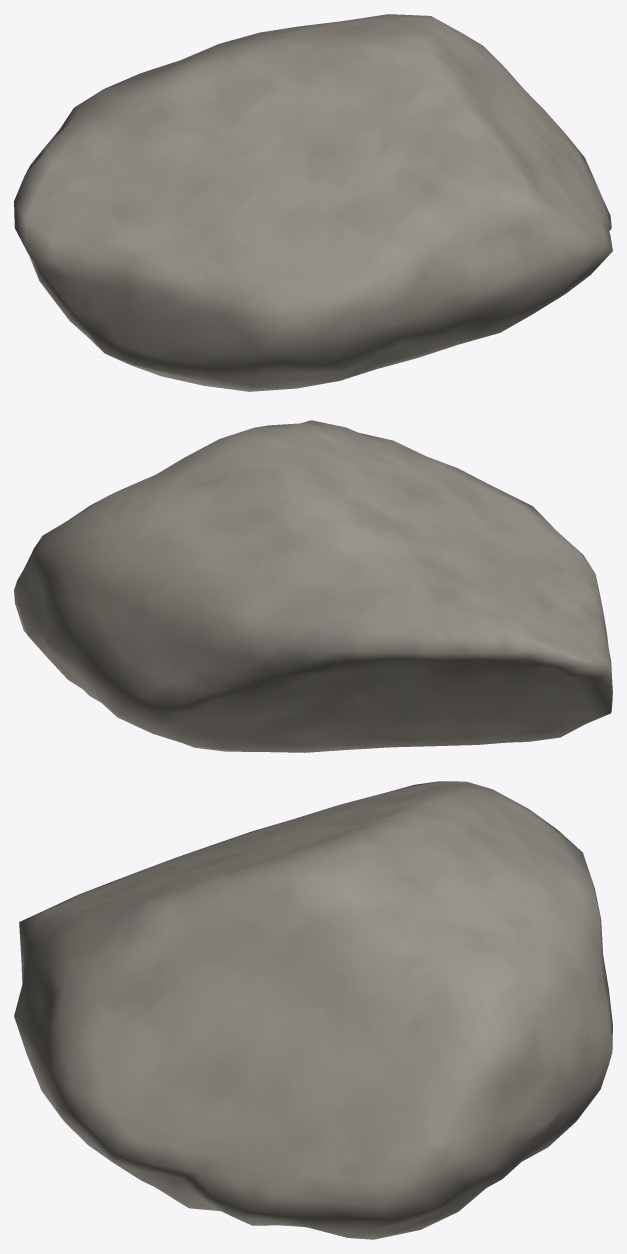
Rendered from pebble-river.glb.
3 views of the same model, one above another, from view 1: azimuth 30°, elevation 25°; view 2: azimuth 150°, elevation 25°; view 3: azimuth 270°, elevation 25° (orthographic). The views are drawn at different scales.
Parts seen in each view (by area): view 1: stone; view 2: stone; view 3: stone.
Boxes of the visible parts, x1=… form: stone: x1=14, y1=14, x2=612, y2=391; stone: x1=14, y1=420, x2=612, y2=752; stone: x1=14, y1=781, x2=612, y2=1239.
Size of the model in its own units: 0.2111 by 0.0888 by 0.1593.
1 material, 1 textured.
